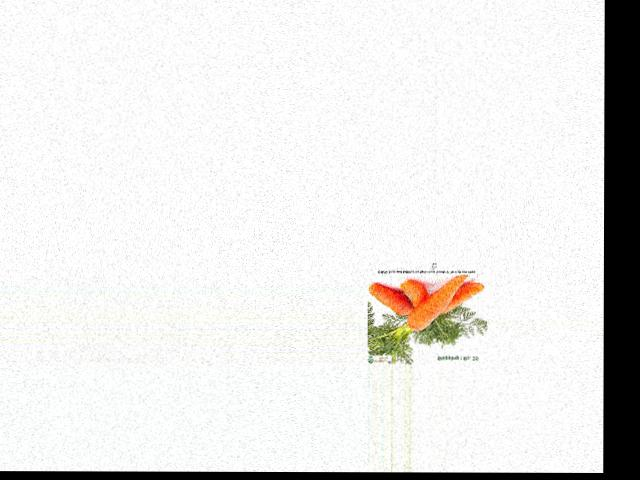carrot: (369, 282, 414, 319)
